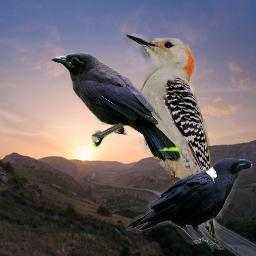Crow: (51, 52, 181, 162), (125, 158, 253, 251)
Woodpecker: (123, 24, 228, 252)
